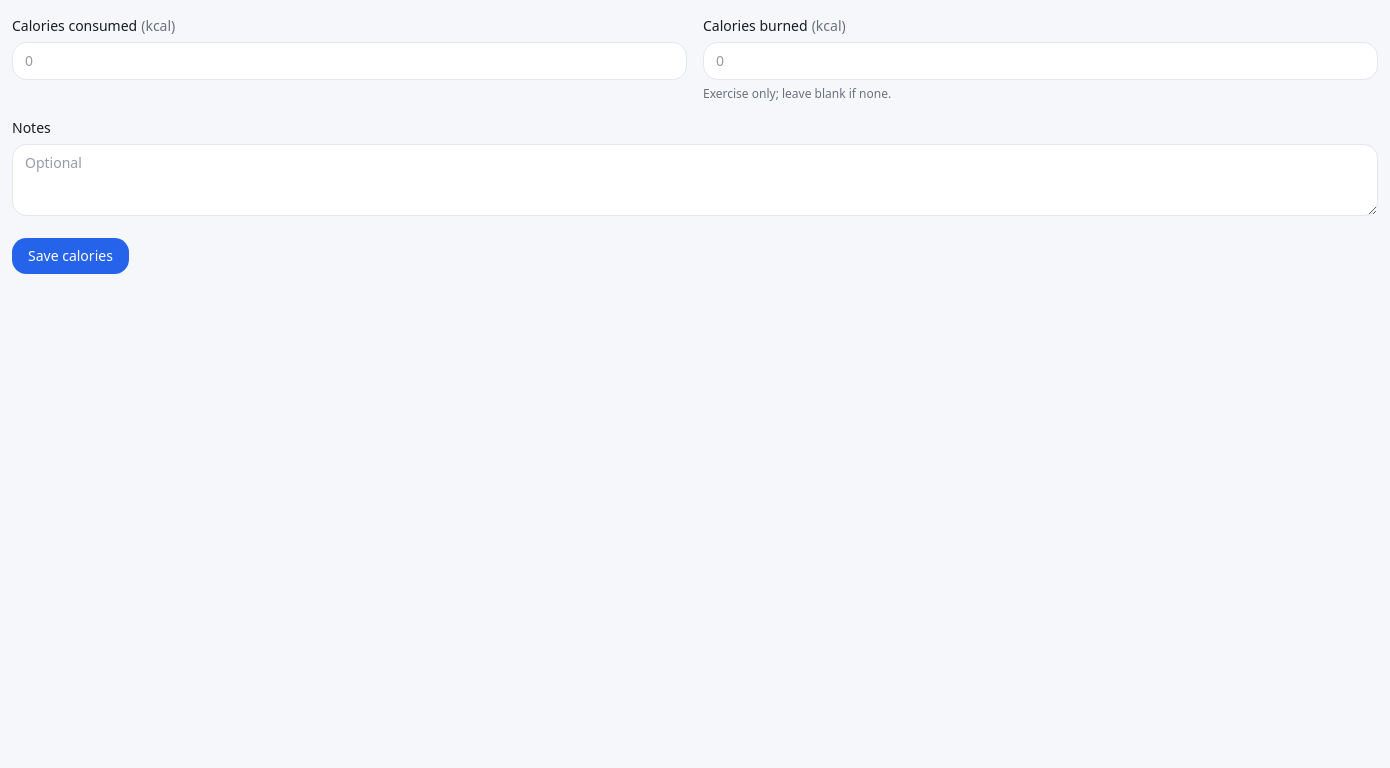
it: calorie quick entry › submits the local date and both calorie values
In the number field labelled "Calories consumed(kcal)": (350, 61) [12, 42, 687, 80], type "2200"
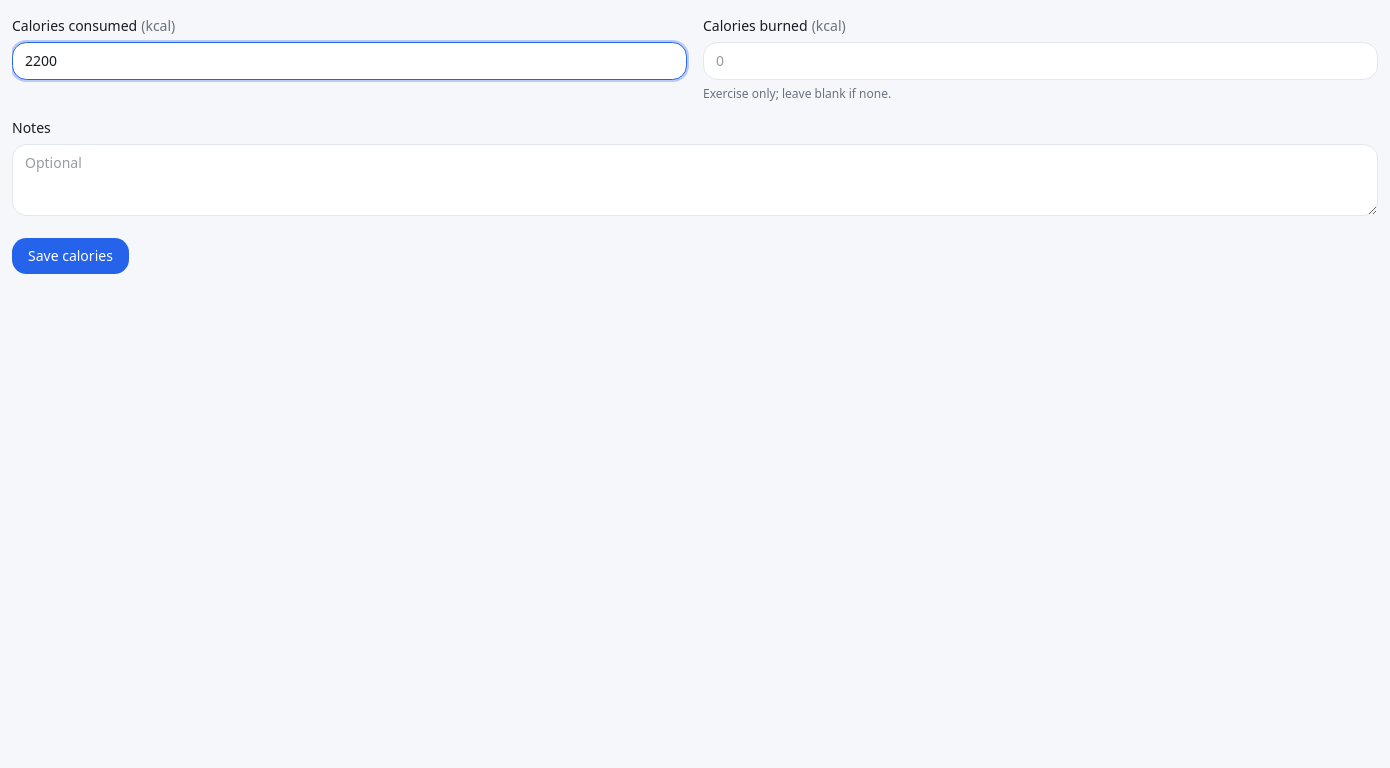
In the number field labelled "Calories burned(kcal)": (1040, 61) [703, 42, 1378, 80], type "500"
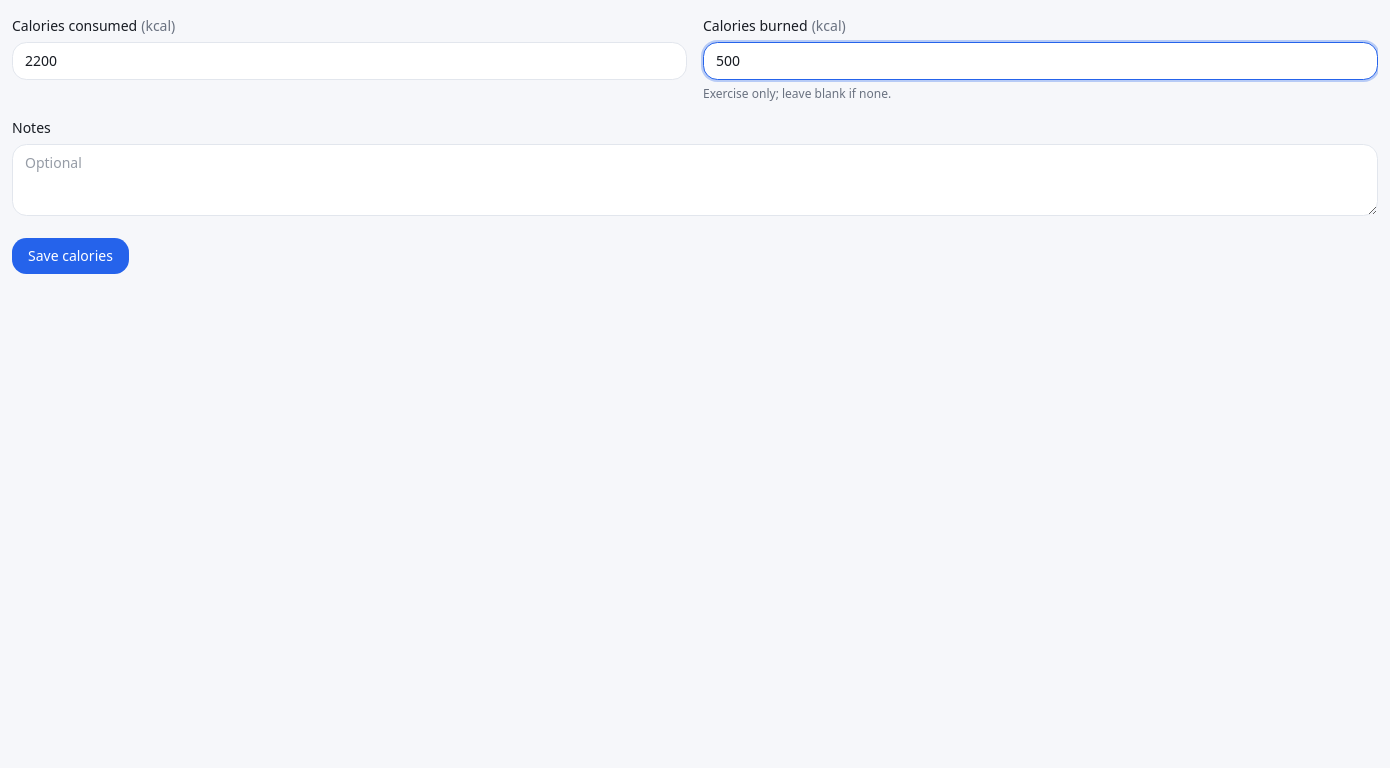
Click the button "Save calories": (70, 256) [12, 238, 129, 274]
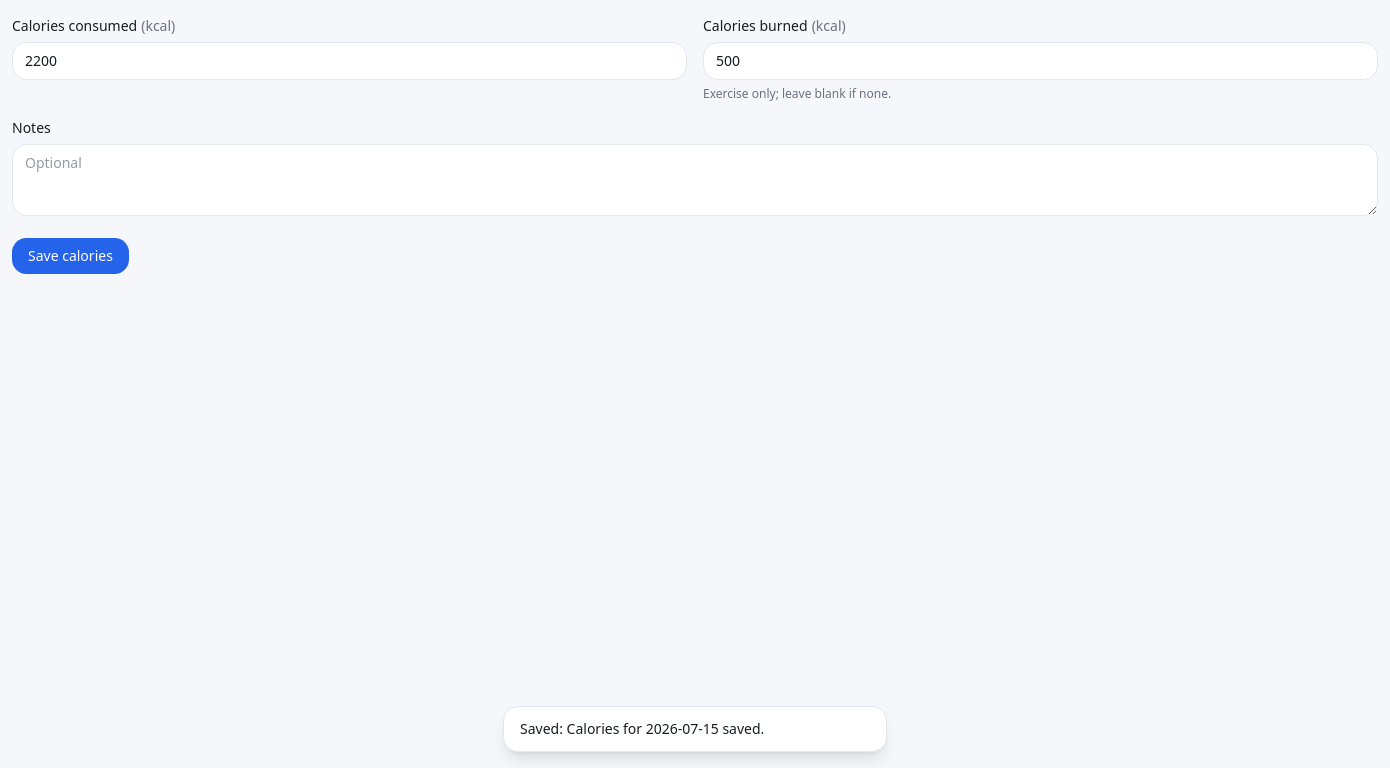
Result: the message shows "Saved" at [520, 719, 567, 738]
